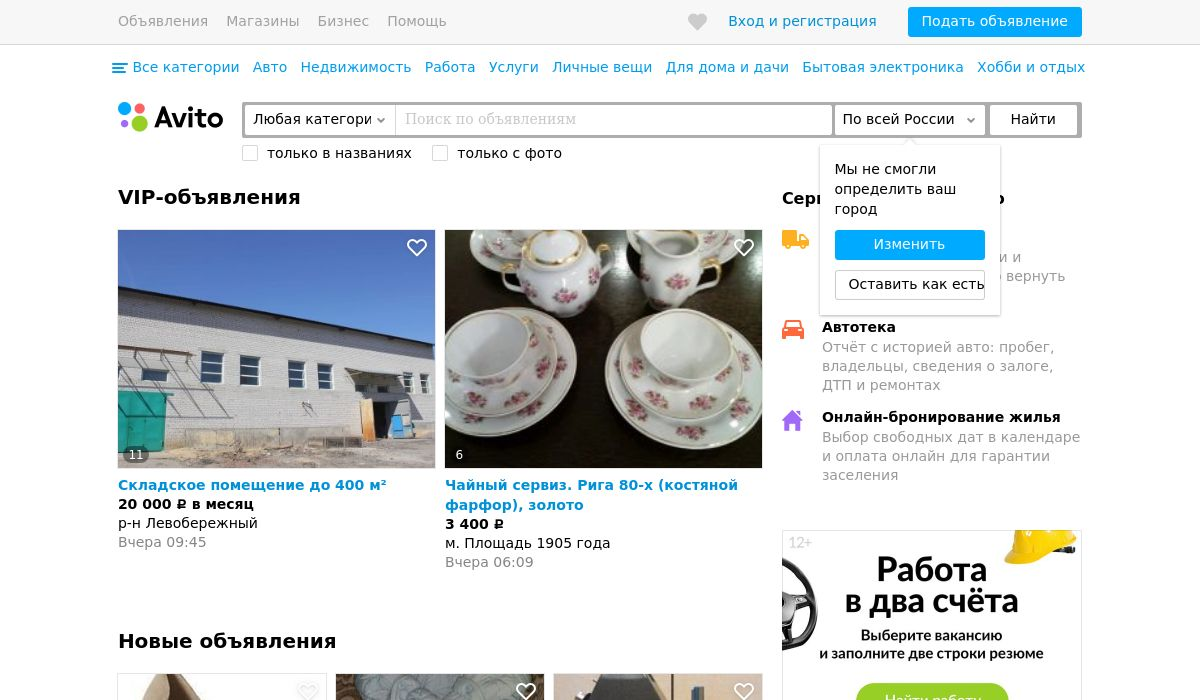menu: (1, 1, 1199, 44)
menu-button: (908, 6, 1082, 36), (724, 13, 880, 32), (114, 10, 210, 29), (223, 11, 306, 29), (383, 11, 450, 30), (314, 11, 372, 30), (684, 9, 713, 35)
